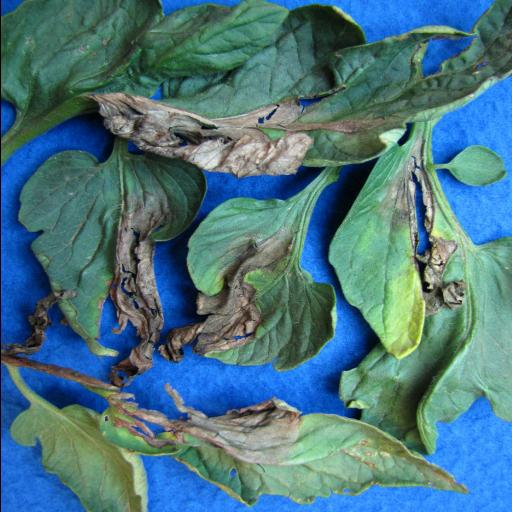disease_tomato: (133, 6, 505, 180), (22, 120, 210, 375), (118, 388, 472, 508), (331, 118, 499, 348), (186, 176, 339, 377)
